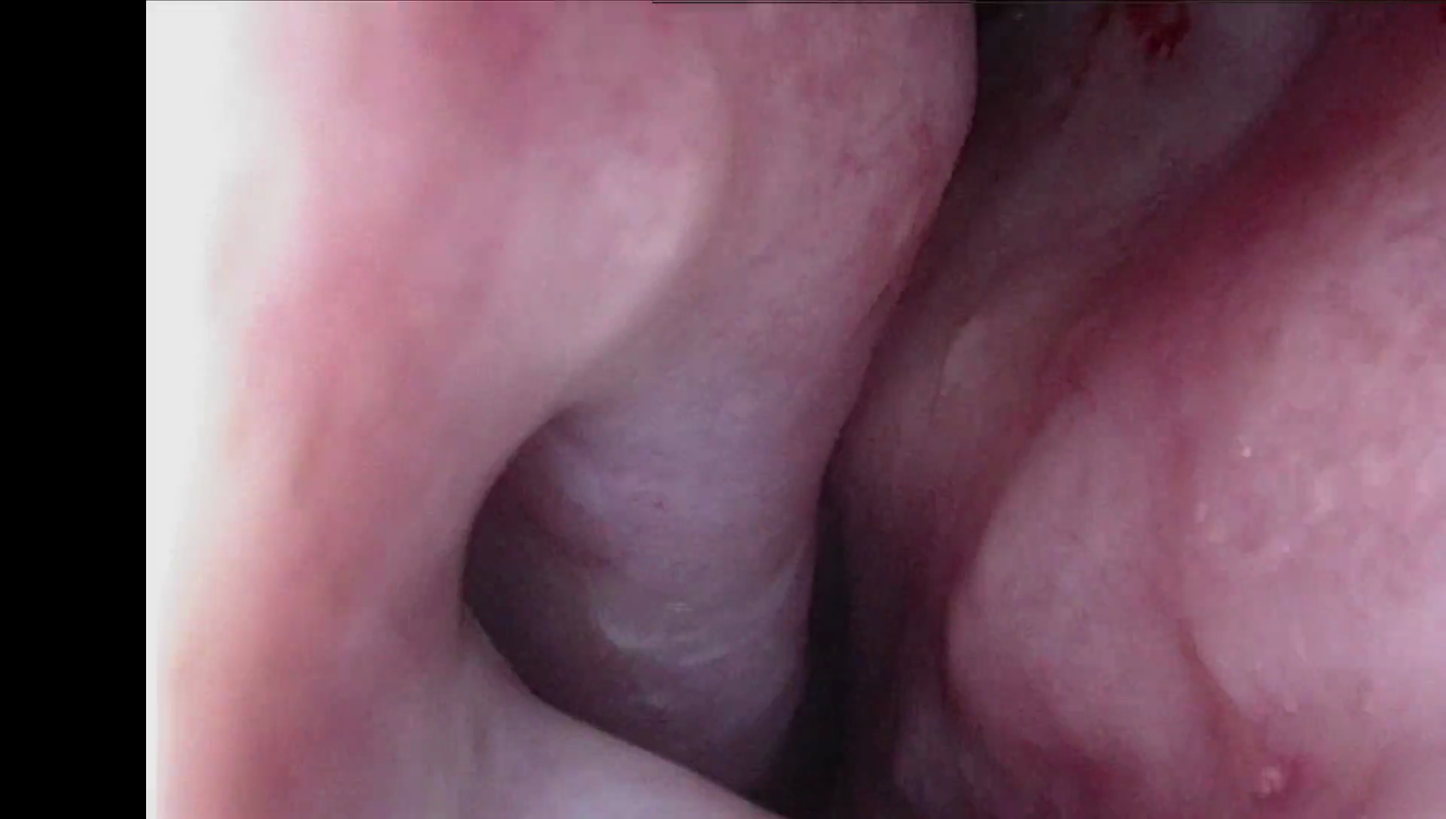close_wall: (149, 0, 454, 818)
next: (722, 428, 955, 819), (481, 364, 679, 770), (926, 0, 1049, 169)
